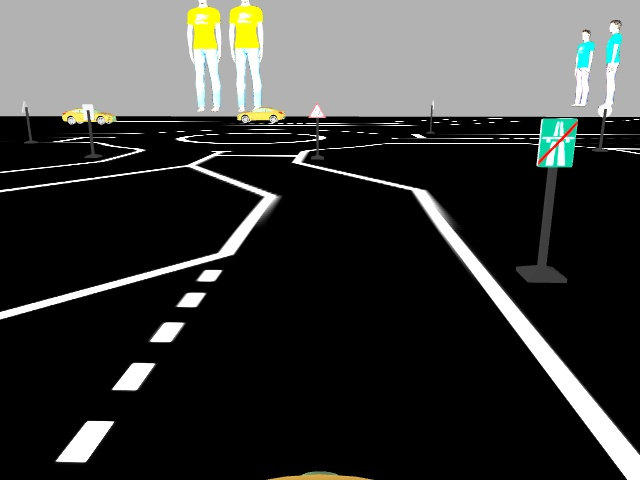HighwayExit: (538, 117, 575, 164)
